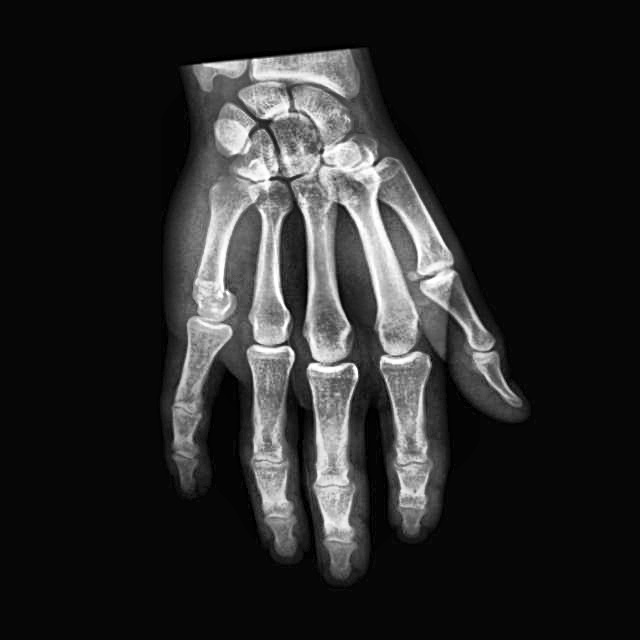Comminuted: (187, 268, 240, 328)
